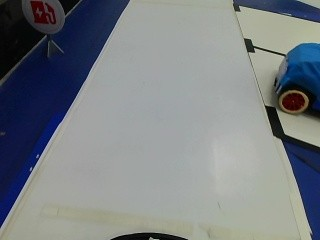battery: (19, 0, 67, 37)
car: (276, 42, 318, 116)
